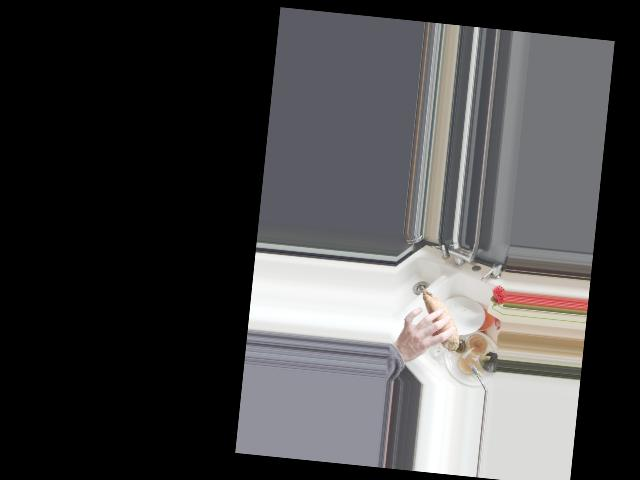sweet_potato: (414, 285, 464, 351)
